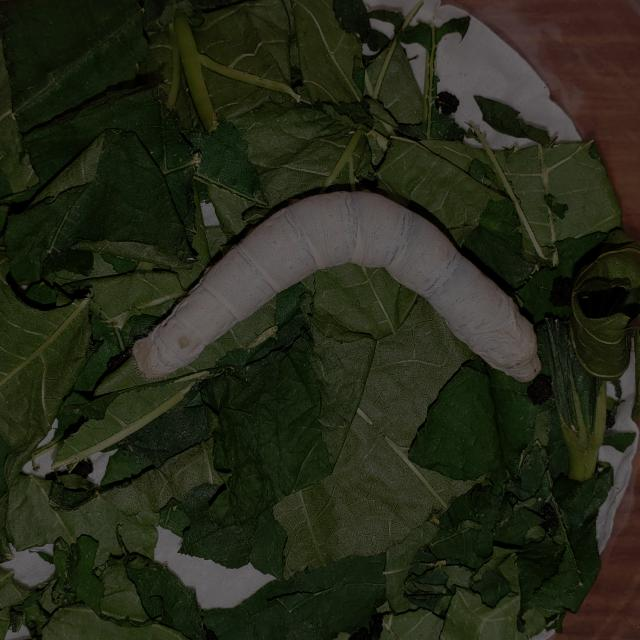Healthy: (124, 181, 551, 387)
